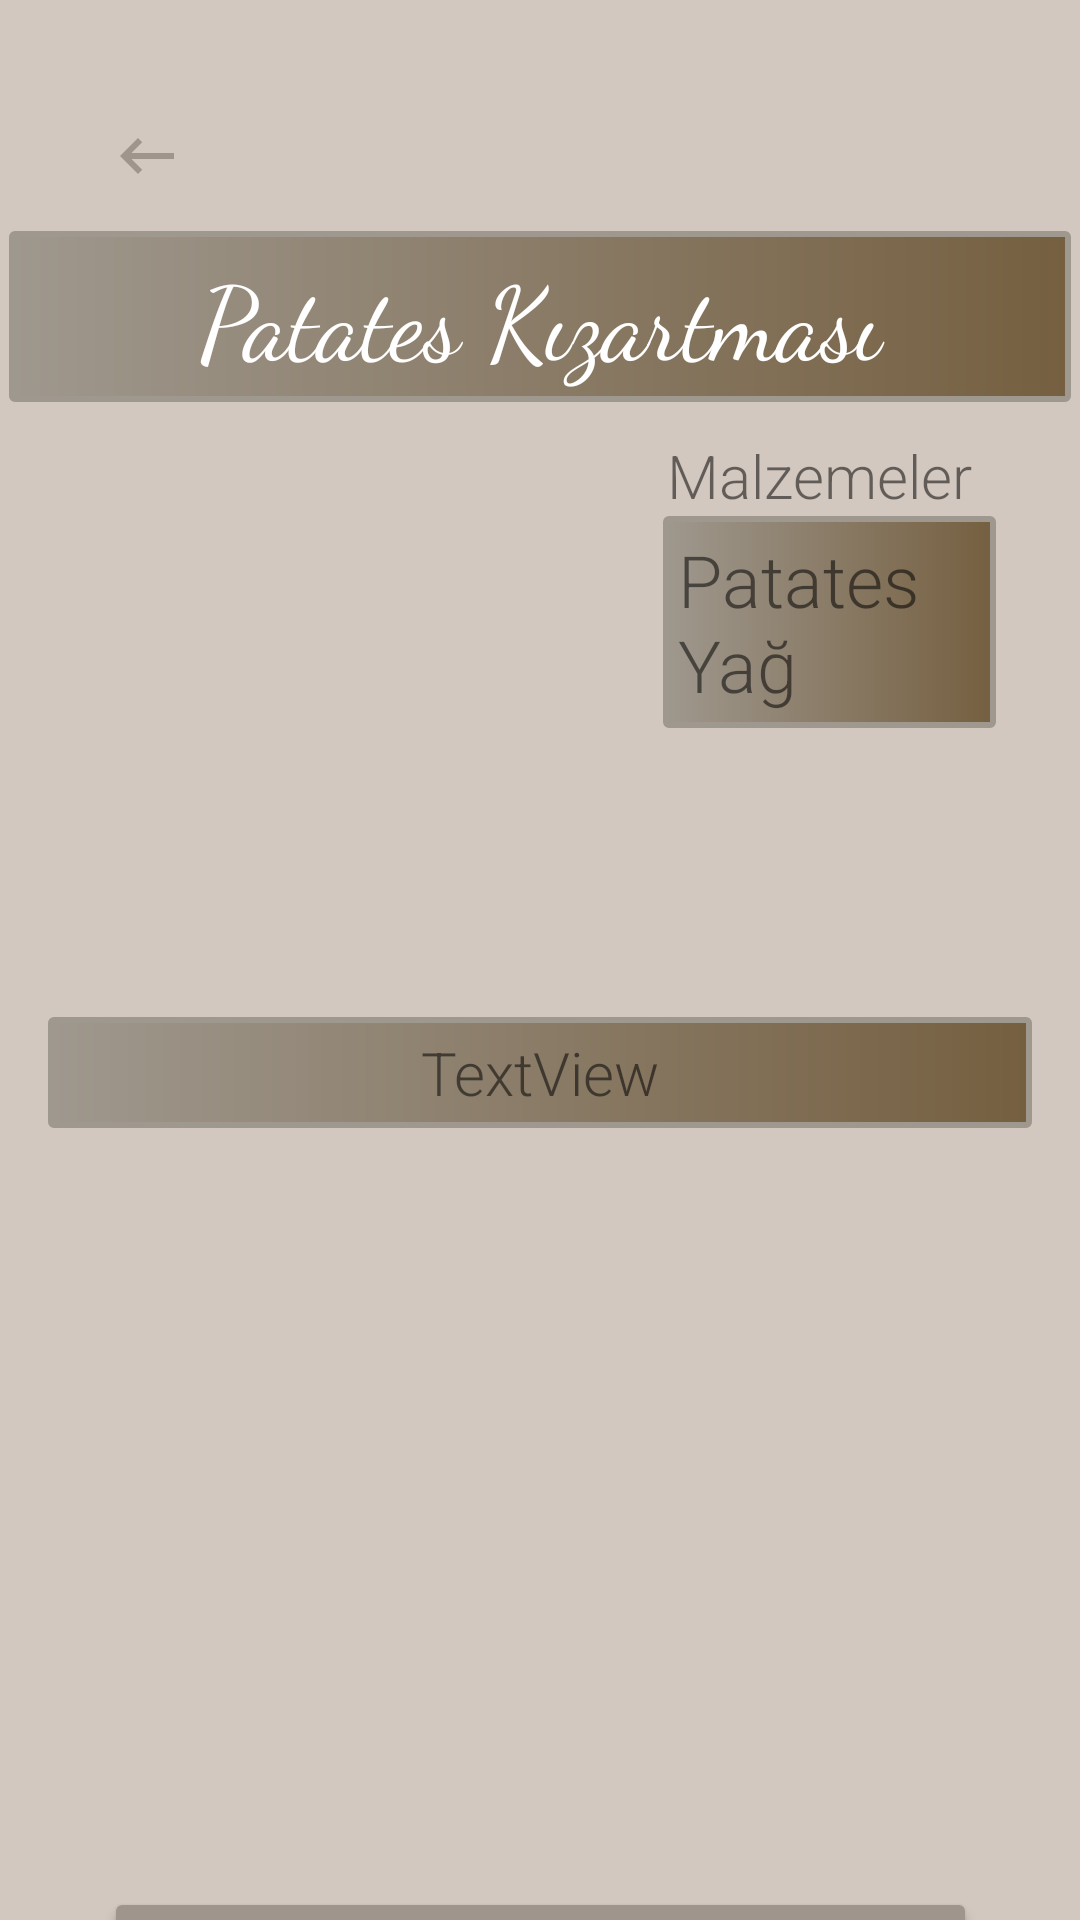

Named icons in this screenshot (1080×1920) and their bounding boxes, (x1, y1, x2, y2):
geri button: (120, 138, 174, 174)
